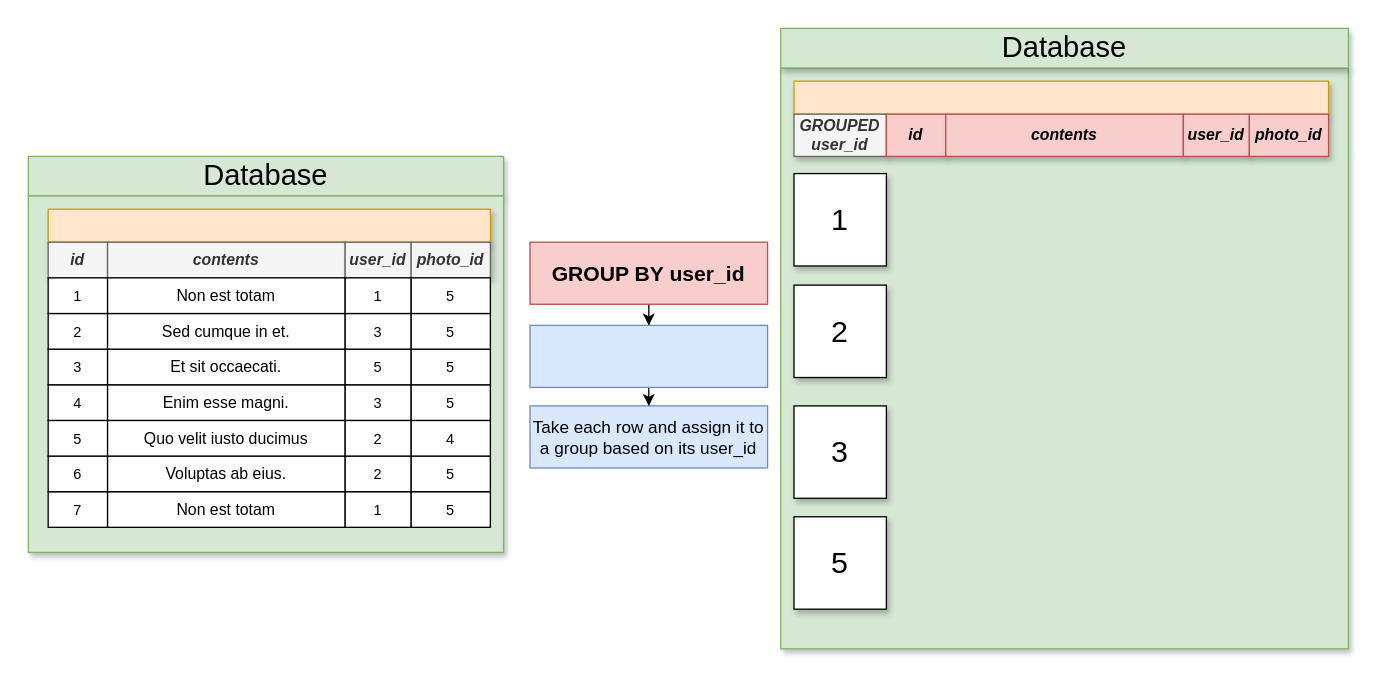
Some shapes in this 1379 by 681 pixel diagram are drawn without their labels. Here are the shapes that lost their labels. From the top down, the centre of each, then its label:
point (1061, 99): grouped comments
point (270, 227): comments
point (648, 355): Find the set of all unique user_id's
